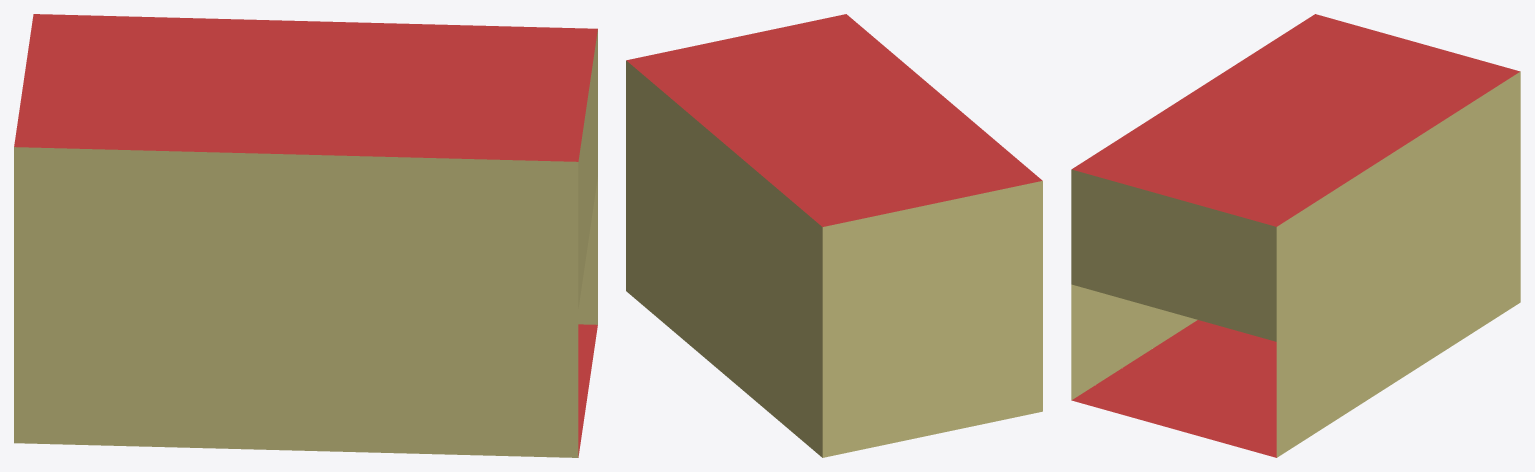
3 views of the same model, side by side, from view 1: azimuth 30°, elevation 25°; view 2: azimuth 150°, elevation 25°; view 3: azimuth 270°, elevation 25° (orthographic). The views are drawn at different scales.
Parts seen in each view (by area): view 1: group_4, group_3, group_5; view 2: group_4, group_3; view 3: group_4, group_3, group_5.
Part boxes in pixels (box(x1,y1,x2,y2)): group_4: box(14, 30, 597, 457); group_3: box(14, 14, 597, 161); group_5: box(578, 324, 597, 457); group_4: box(626, 60, 1042, 457); group_3: box(626, 14, 1042, 226); group_4: box(1071, 71, 1520, 457); group_3: box(1072, 14, 1520, 226); group_5: box(1071, 320, 1276, 457).
Bounding box in the file's own units: 27.95 × 24.91 × 14.14.
